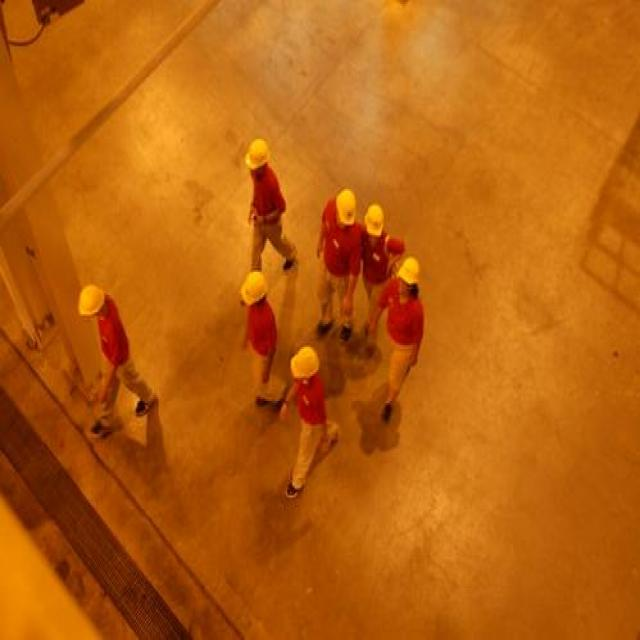Reflective-Jacket: (360, 235, 398, 287)
Safety-Helmet: (72, 274, 112, 322), (236, 264, 272, 312), (289, 341, 323, 388), (242, 133, 274, 177), (394, 251, 426, 293), (332, 183, 360, 230), (363, 197, 390, 239)
